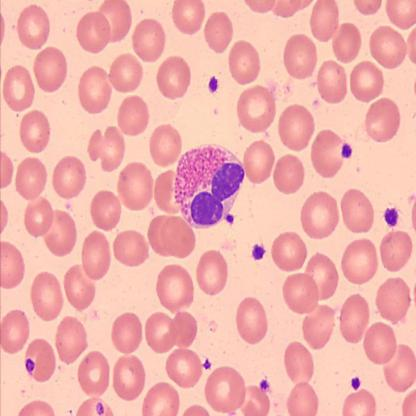Eosinophil: (172, 142, 244, 226)
